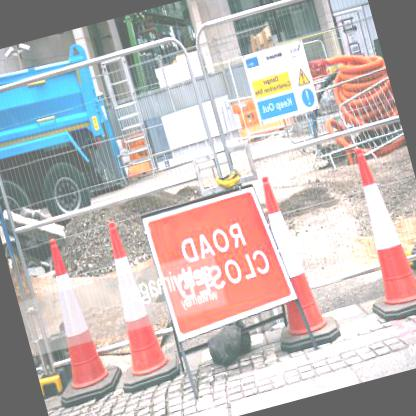cone: (235, 166, 344, 358), (20, 231, 127, 411), (83, 214, 181, 390), (333, 140, 415, 324)
